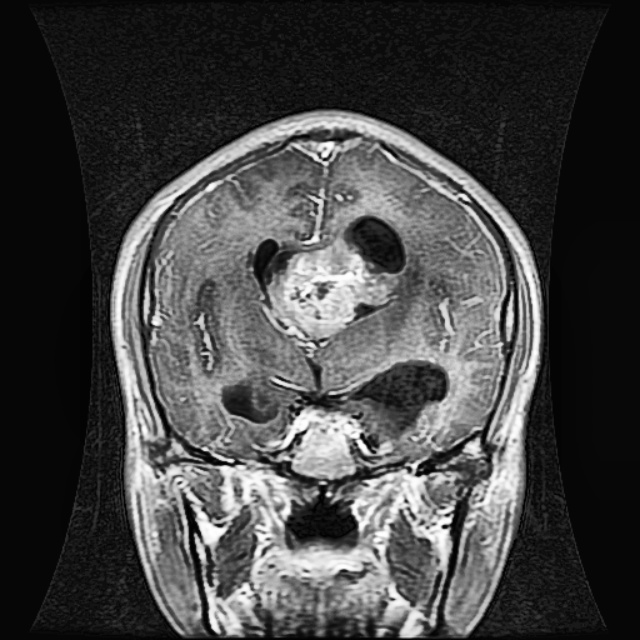Meningioma: (249, 215, 408, 354)
